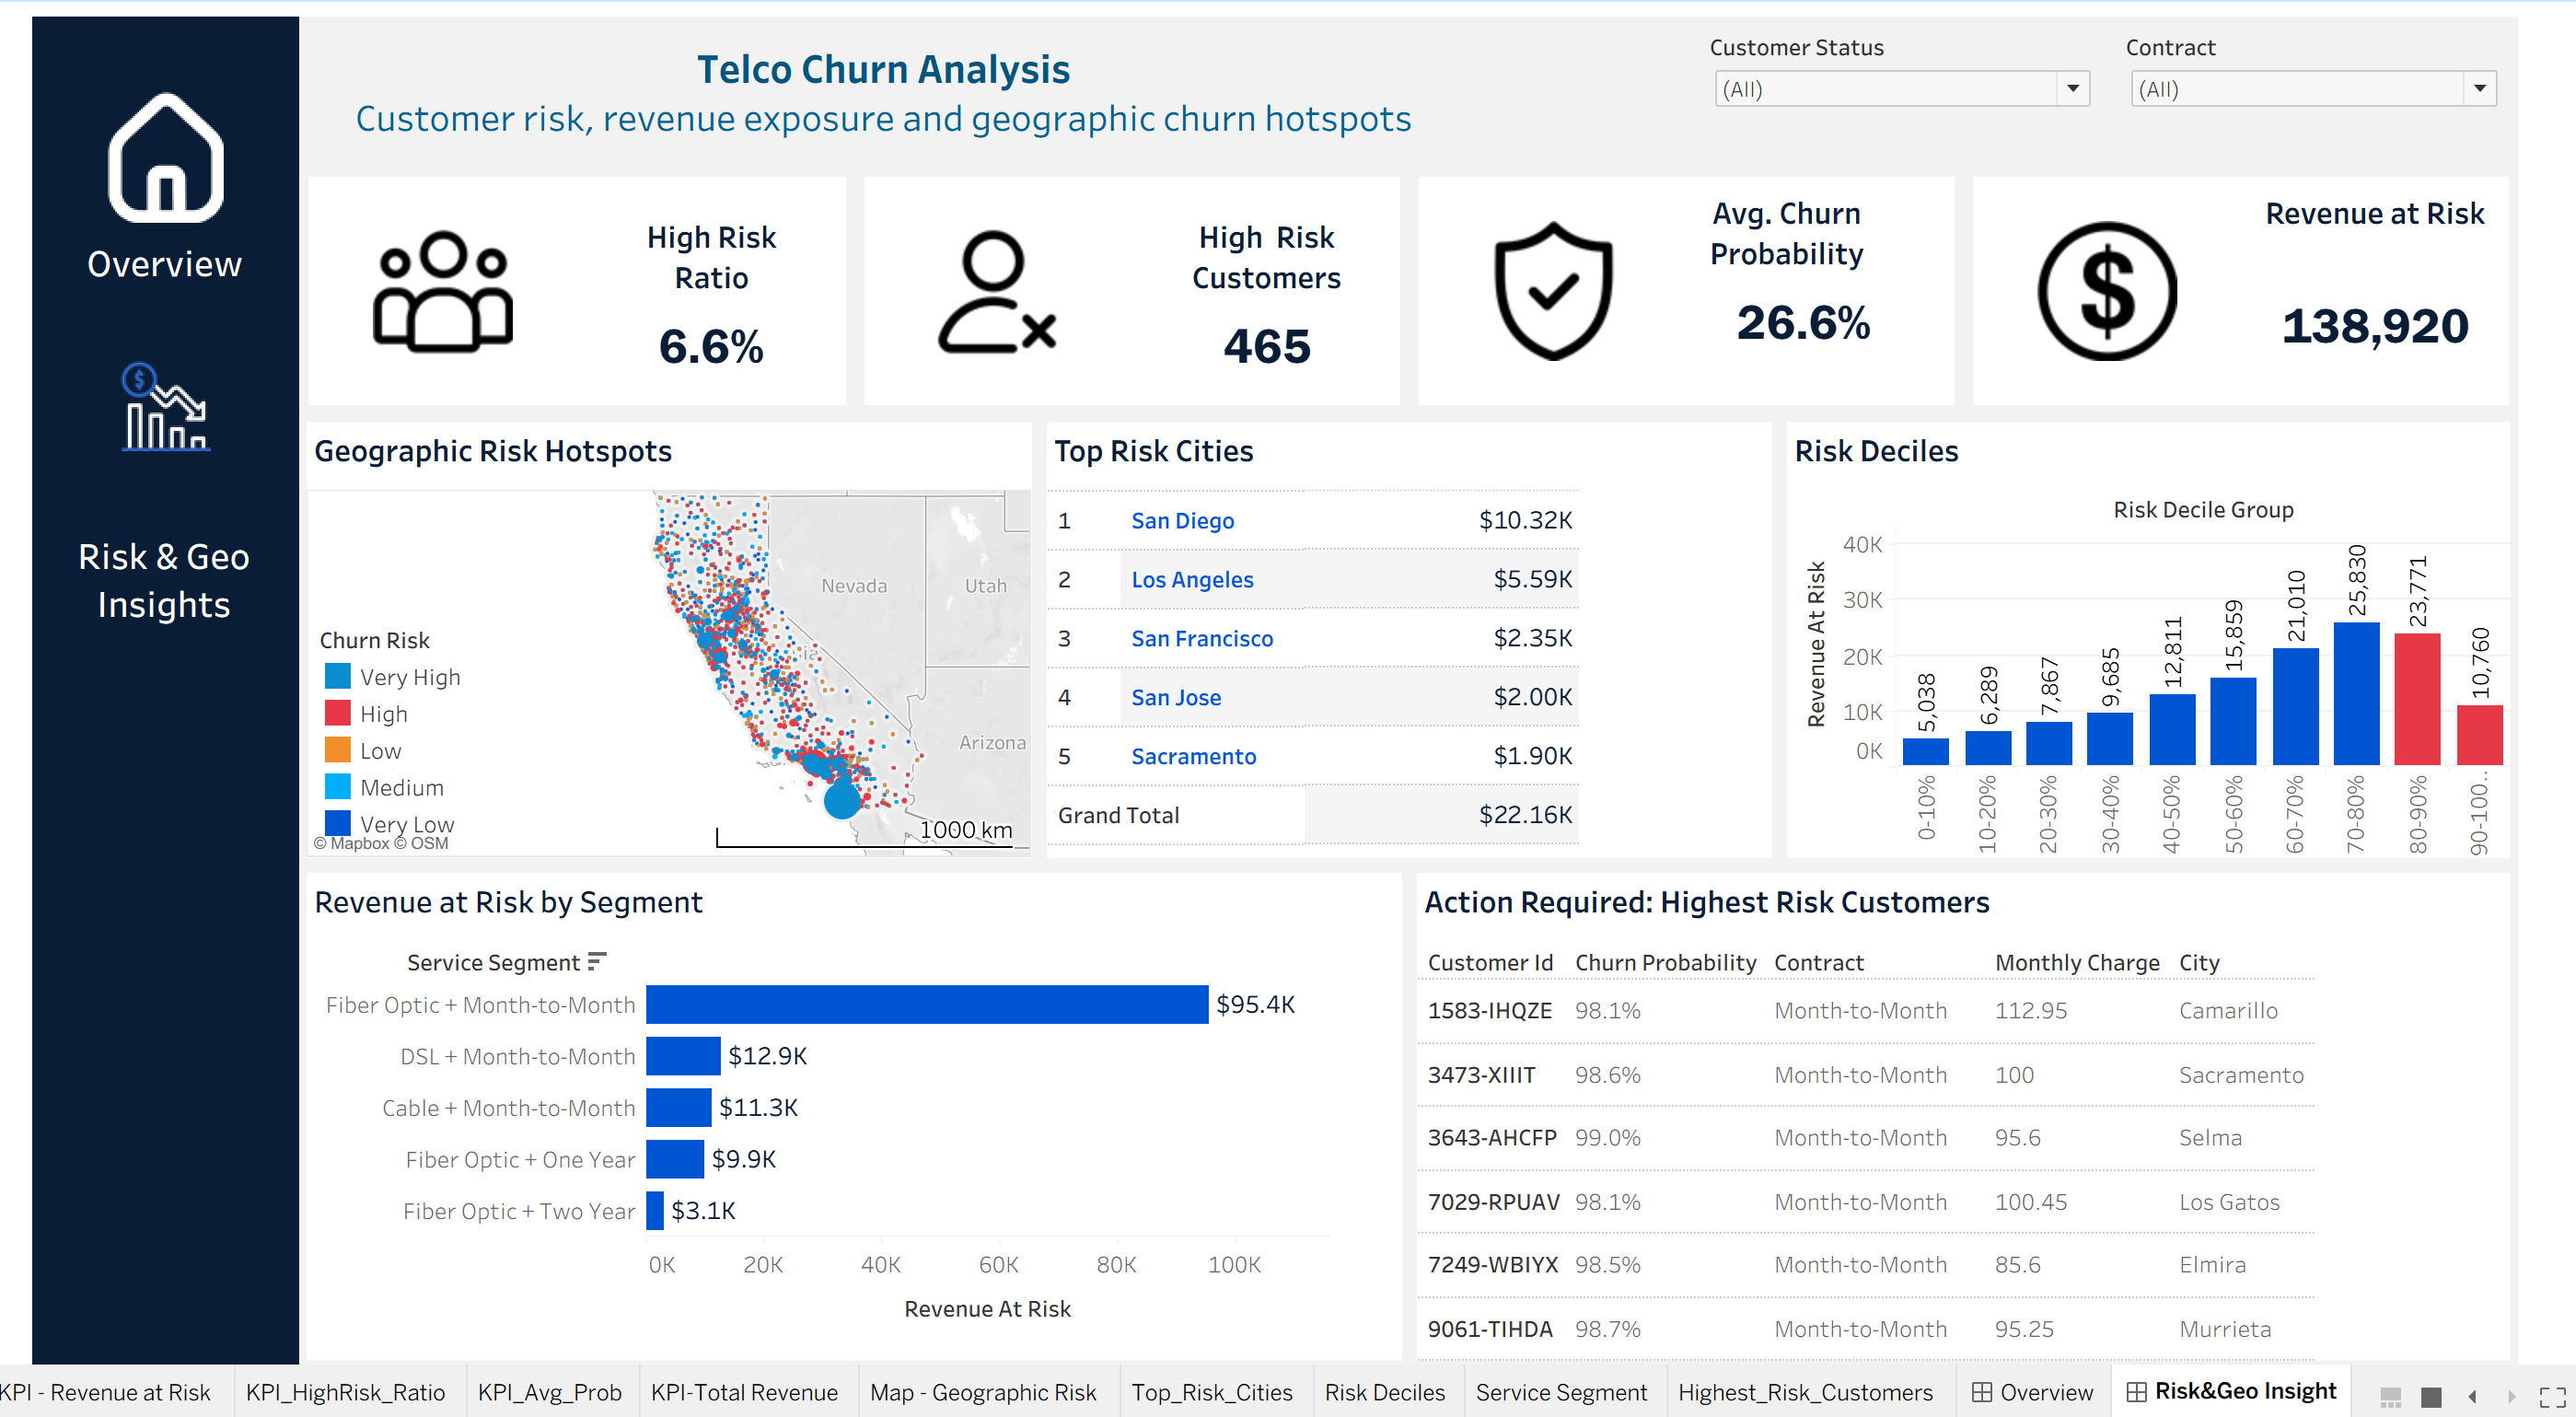

Layout of this report page (visuals, bound fields, positions):
{"tool":"tableau","page":{"name":"Risk&Geo Insight","canvas":[1366,750],"ordinal":1},"visuals":[{"type":"dashboard-object","box":[8,8,145,153]},{"type":"text","box":[153,8,635.1,82.4]},{"type":"blank","box":[788.1,8,123,82.4]},{"type":"filter","title":"KPI - Revenue at Risk","param":"[federated.15cv9ty1696nmi18hc9wt0d1f6dx].[none:customer_status:nk]","box":[911.1,8,226.1,82.4]},{"type":"filter","title":"KPI - Revenue at Risk","param":"[federated.15cv9ty1696nmi18hc9wt0d1f6dx].[none:contract:nk]","box":[1137.2,8,220.8,82.4]},{"type":"image","param":"Image/customer.png","box":[158,95,146,124]},{"type":"worksheet","title":"KPI_HighRisk_Ratio","mark":"Automatic","box":[304,95,146,124]},{"type":"image","param":"Image/remove-user.png","box":[460,95,146,124]},{"type":"worksheet","title":"KPI-High Risk","mark":"Automatic","box":[606,95,145,124]},{"type":"image","param":"Image/security.png","box":[761,95,146,124]},{"type":"worksheet","title":"KPI_Avg_Prob","mark":"Automatic","box":[907,95,145,124]},{"type":"image","param":"Image/dollar-coin-circle-with-symbol.png","box":[1062,95,146,124]},{"type":"worksheet","title":"KPI - Revenue at Risk","mark":"Automatic","box":[1208,95,145,124]},{"type":"text","box":[30,126,100,30]},{"type":"dashboard-object","box":[8,161,145,117]},{"type":"worksheet","title":"Map - Geographic Risk","mark":"Automatic","rows":["latitude"],"cols":["longitude"],"box":[153,224,402,245]},{"type":"worksheet","title":"Top_Risk_Cities","mark":"Automatic","rows":["Calculation_632474339870875657","city"],"box":[555,224,402,245]},{"type":"worksheet","title":"Risk Deciles","mark":"Bar","rows":["revenue_at_risk"],"cols":["Calculation_632474339873325066"],"box":[957,224,401,245]},{"type":"blank","box":[8,278,145,116]},{"type":"legend","title":"Map - Geographic Risk","param":"[federated.15cv9ty1696nmi18hc9wt0d1f6dx].[none:Calculation_632474339866144775:nk","box":[164,338,140,118]},{"type":"worksheet","title":"Service Segment","mark":"Automatic","rows":["Calculation_632474339878432781"],"cols":["revenue_at_risk"],"box":[153,469,603,273]},{"type":"worksheet","title":"Highest_Risk_Customers","mark":"Polygon","rows":["customer_id","churn_probability","contract","monthly_charge","city"],"box":[756,469,602,273]},{"type":"blank","box":[8,510,145,116]},{"type":"blank","box":[8,626,145,116]}]}

Visuals, with their boxes on the page's 1366x750 design canvas (x1, y1, x2, y2). These are canvas units, not pixel positions in the 2576x1417 screenshot, which may show the page scaled, cropped or inside an application window:
dashboard-object: (8,8,153,161)
text: (153,8,788,90)
blank: (788,8,911,90)
"KPI - Revenue at Risk" filter: (911,8,1137,90)
"KPI - Revenue at Risk" filter: (1137,8,1358,90)
image: (158,95,304,219)
"KPI_HighRisk_Ratio" worksheet: (304,95,450,219)
image: (460,95,606,219)
"KPI-High Risk" worksheet: (606,95,751,219)
image: (761,95,907,219)
"KPI_Avg_Prob" worksheet: (907,95,1052,219)
image: (1062,95,1208,219)
"KPI - Revenue at Risk" worksheet: (1208,95,1353,219)
text: (30,126,130,156)
dashboard-object: (8,161,153,278)
"Map - Geographic Risk" worksheet: (153,224,555,469)
"Top_Risk_Cities" worksheet: (555,224,957,469)
"Risk Deciles" worksheet (Bar marks): (957,224,1358,469)
blank: (8,278,153,394)
"Map - Geographic Risk" legend: (164,338,304,456)
"Service Segment" worksheet: (153,469,756,742)
"Highest_Risk_Customers" worksheet (Polygon marks): (756,469,1358,742)
blank: (8,510,153,626)
blank: (8,626,153,742)
